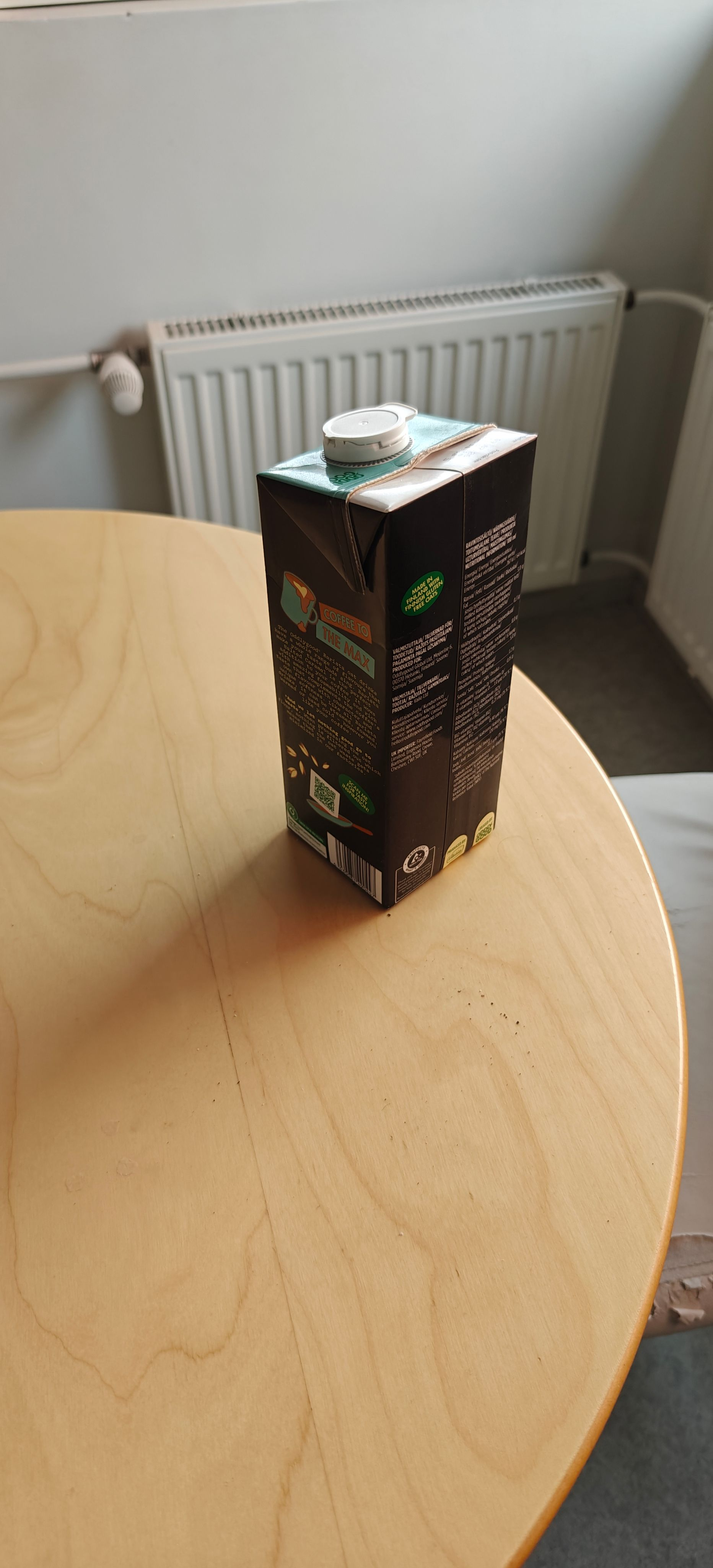Dryckeskartong: (256, 402, 537, 909)
